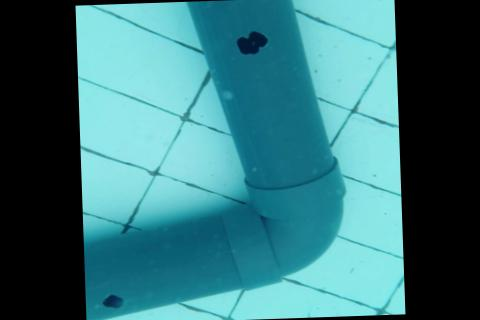kebocoran: (234, 28, 269, 56), (101, 293, 126, 310)
